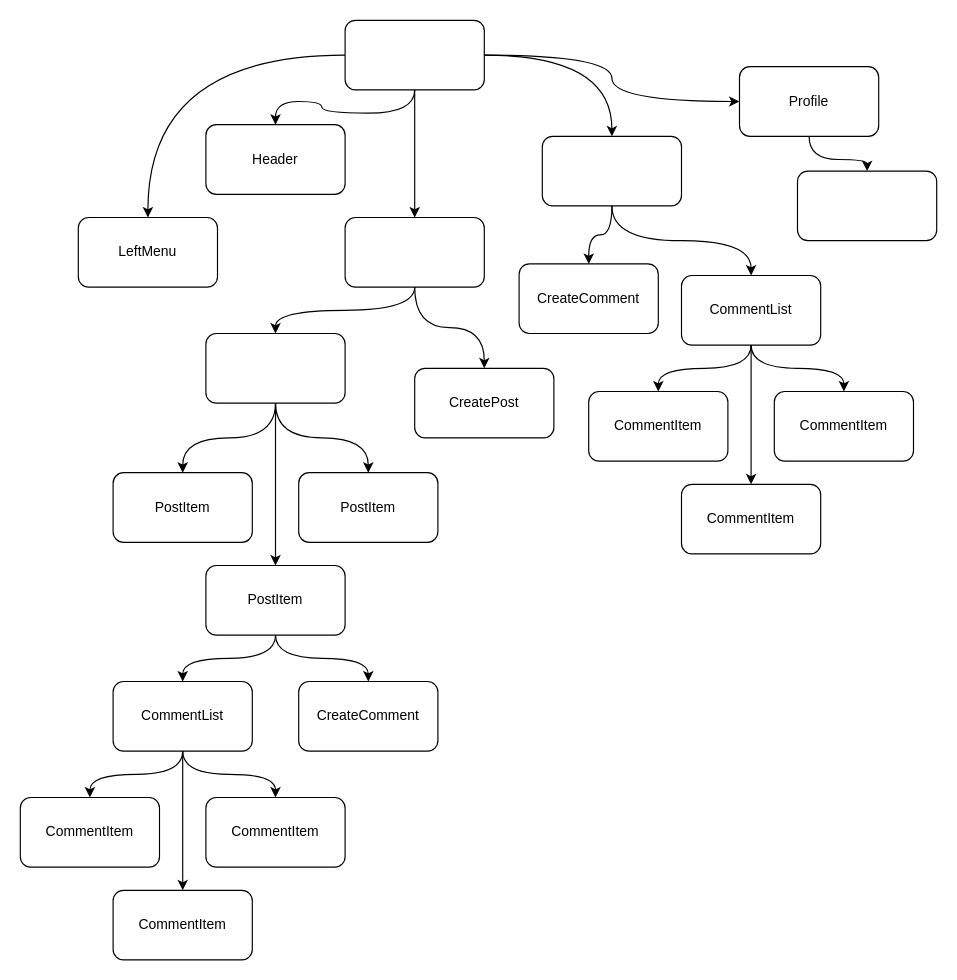
This 957x980 diagram has some shape labels left out. Here are the shapes that lost their labels. From the top down, the centre of each, then its label:
At point 414,54: "App".
At point 611,170: "PostPage".
At point 866,205: "AccountInfo".
At point 414,251: "PostBoard".
At point 275,367: "PostList".
